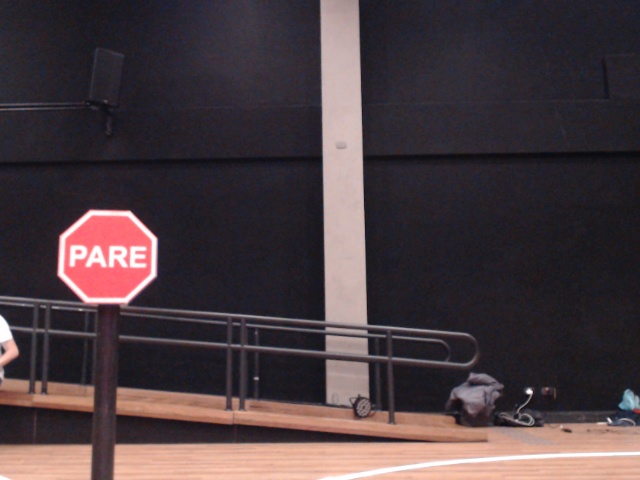SEMAFORO: (10, 183, 215, 372)
